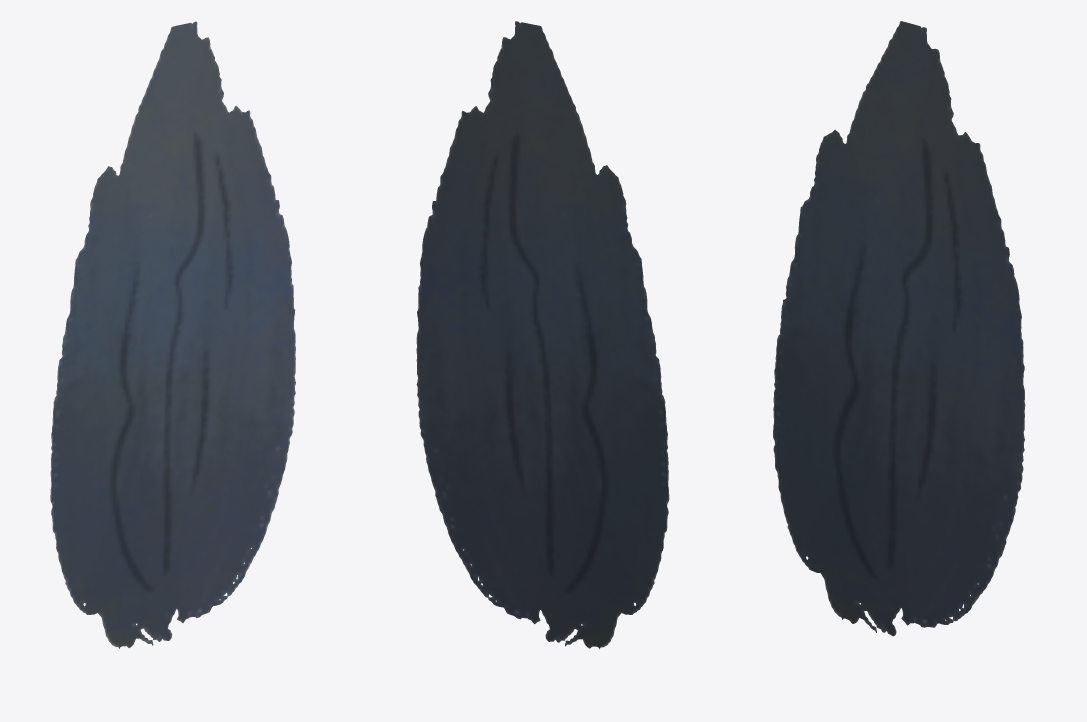
Rendered from tree2.fbx.
The picture shows the model from 3 angles, left to right: view 1: azimuth 30°, elevation 25°; view 2: azimuth 150°, elevation 25°; view 3: azimuth 330°, elevation 25°; orthographic projection.
Parts seen in each view (by area): view 1: tree2; view 2: tree2; view 3: tree2.
Boxes of the visible parts, x1,y1,x2,y2 form: tree2: (50, 21, 295, 648); tree2: (416, 21, 669, 649); tree2: (773, 21, 1025, 636).
Bounding box in the file's own units: 339 × 649 × 7.48.
